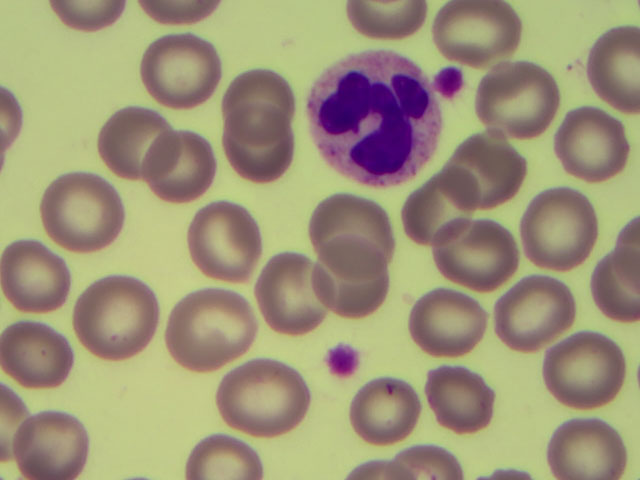Platelets: (327, 345, 359, 376), (435, 64, 464, 98)
RBC: (216, 363, 313, 437), (309, 192, 398, 270), (162, 291, 252, 368), (76, 280, 159, 358), (43, 175, 123, 253), (525, 187, 598, 269), (319, 238, 391, 321), (556, 100, 628, 183), (544, 334, 625, 407), (148, 29, 220, 110), (261, 251, 331, 334), (225, 67, 293, 152), (497, 272, 570, 348), (482, 61, 558, 133), (432, 224, 520, 285), (413, 287, 486, 359), (425, 367, 498, 438), (194, 202, 264, 276), (108, 107, 179, 179), (454, 134, 524, 207), (547, 417, 625, 480), (18, 409, 85, 480), (224, 113, 290, 183), (417, 174, 479, 248), (434, 2, 517, 55), (1, 244, 67, 310), (590, 28, 640, 114), (146, 138, 215, 197), (4, 326, 72, 383), (358, 380, 420, 441), (187, 434, 266, 480), (596, 251, 640, 326), (347, 1, 424, 40), (395, 448, 466, 480), (49, 1, 116, 33), (133, 1, 229, 23), (614, 216, 640, 295), (1, 390, 31, 458), (1, 80, 20, 167), (347, 464, 411, 480), (479, 471, 531, 480)
WBC: (309, 62, 429, 183)
